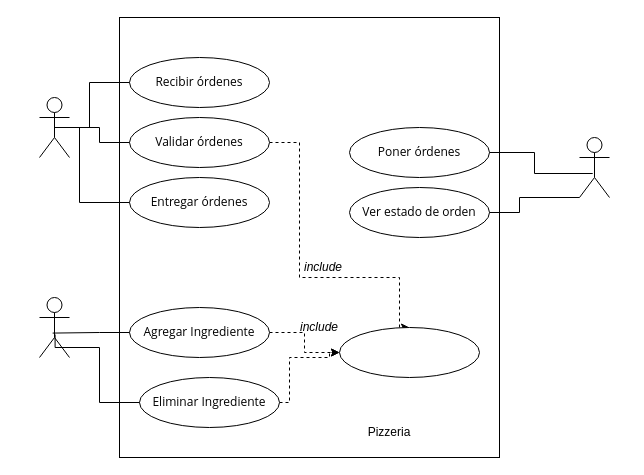
The diagram is 644 pixels wide and 475 high, and some of its shapes have lost their labels. Here are the shapes that lost their labels. From the top down, the centre of each, then its label:
the point at 54,127: Chef
the point at 594,167: Consumidor
the point at 54,327: Administrador
the point at 409,352: Actualizar inventario
